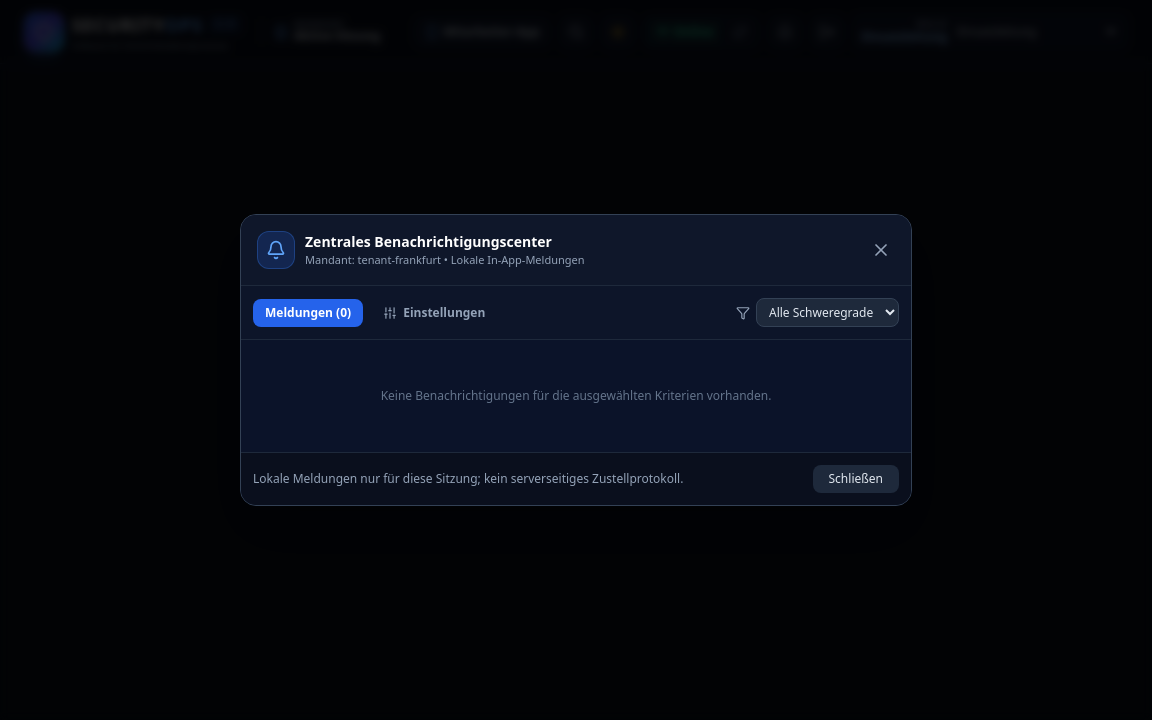
Runtime notification center › does not offer unconnected email or automated warning preferences as working settings
The width and height of the screenshot is (1152, 720).
Click the button "Einstellungen". click: point(434, 312)
box: top-left (371, 298), bottom-right (497, 326)
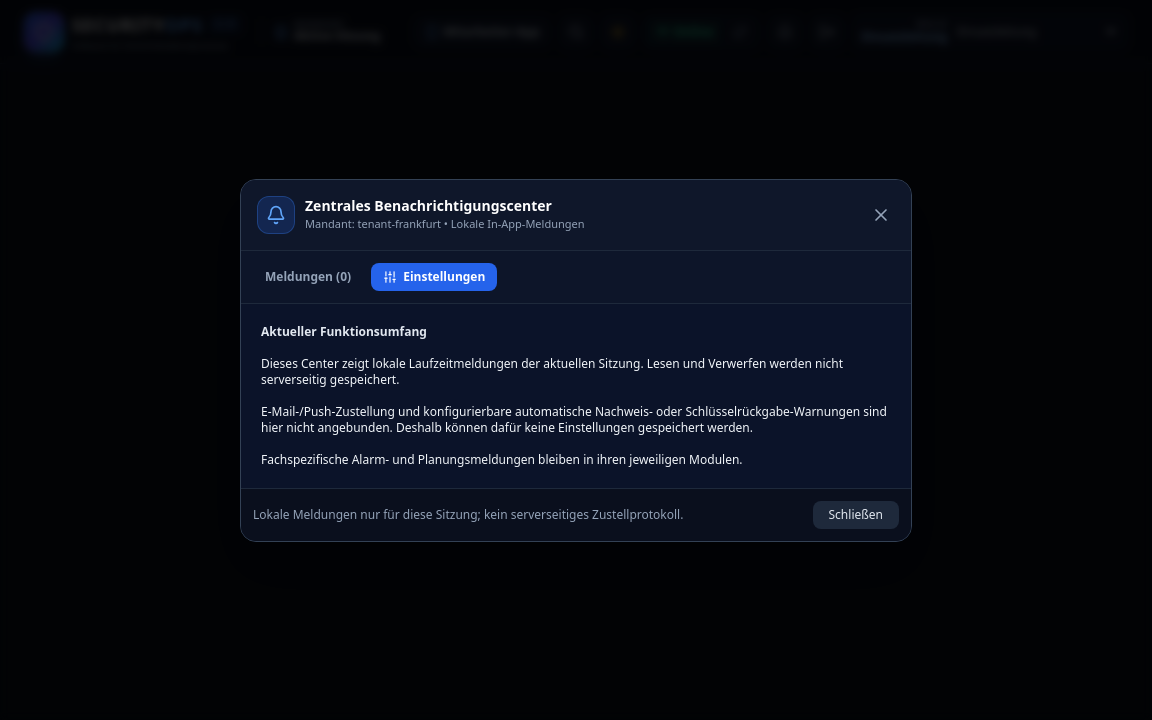
Result: the text "nicht angebunden" is shown at top-left (261, 402), bottom-right (887, 436)
